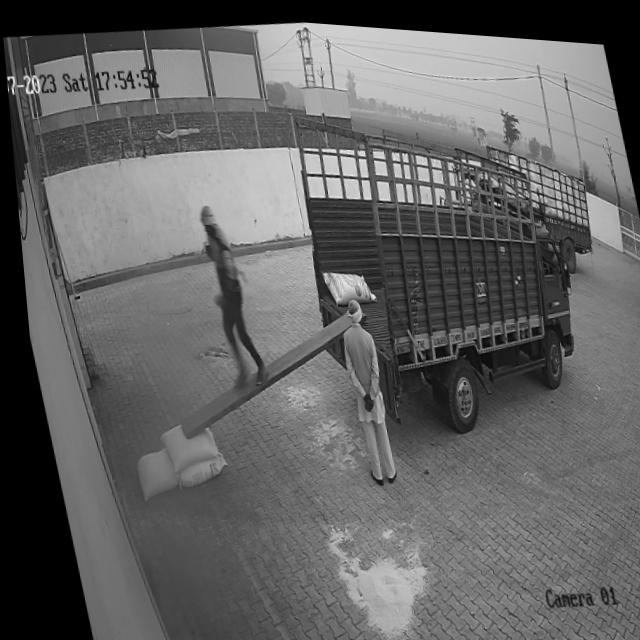sack: (150, 416, 213, 473), (123, 442, 172, 502), (316, 259, 372, 305), (165, 448, 221, 488)
